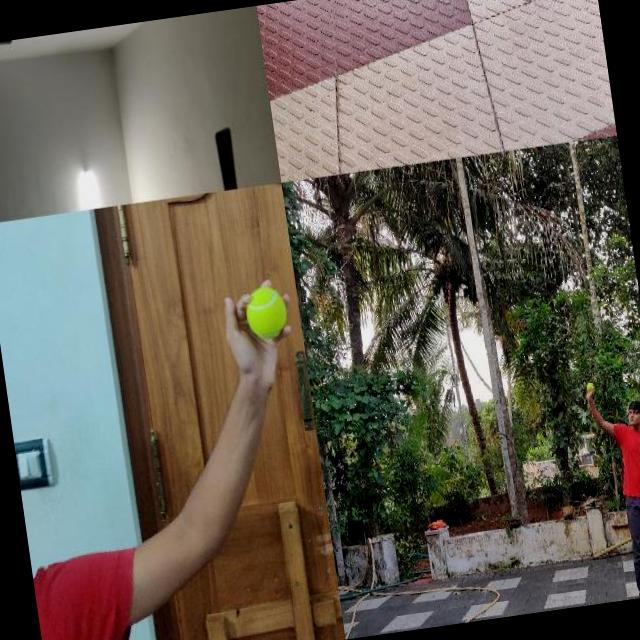Tennis Ball: (242, 284, 290, 343), (586, 382, 594, 392)
